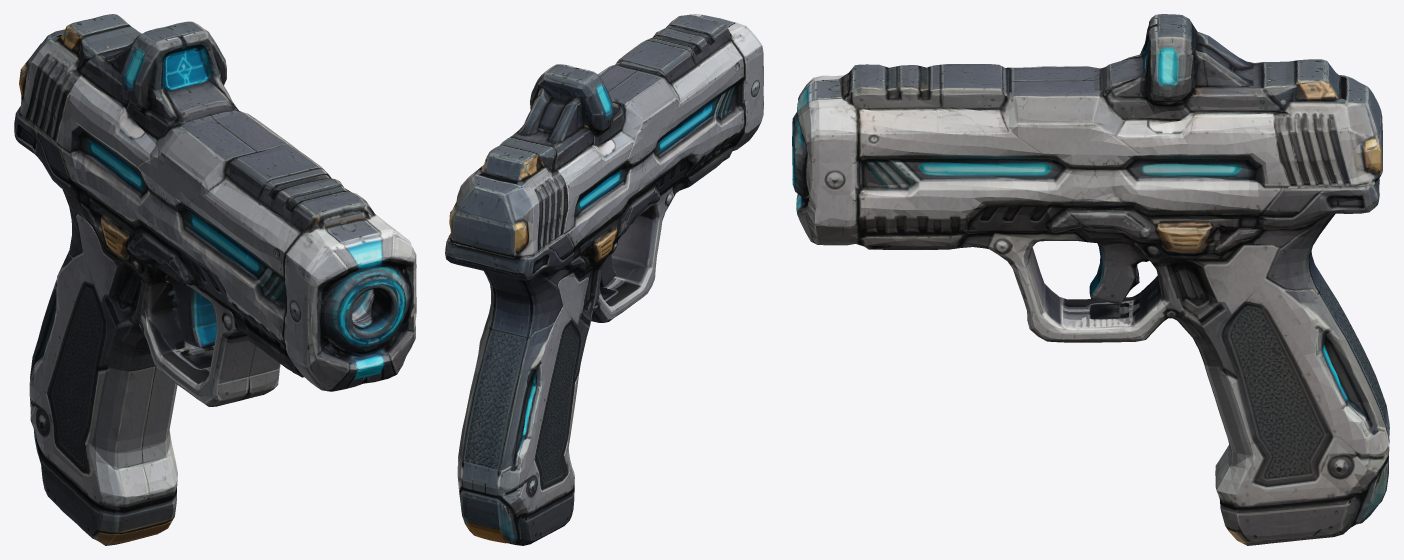
The model's file is Sci-fi_Pistol_Low10k.fbx.
The picture shows the model from 3 angles, left to right: view 1: azimuth 30°, elevation 25°; view 2: azimuth 150°, elevation 25°; view 3: azimuth 270°, elevation 25°; orthographic projection. The views are drawn at different scales.
Visible parts, largest first — view 1: Sci-fi_Pistol_Low; view 2: Sci-fi_Pistol_Low; view 3: Sci-fi_Pistol_Low.
Boxes of the visible parts, left/top/right/bottom form: Sci-fi_Pistol_Low: left=14, top=14, right=416, bottom=545; Sci-fi_Pistol_Low: left=445, top=14, right=763, bottom=545; Sci-fi_Pistol_Low: left=792, top=14, right=1389, bottom=545.
Bounding box in the file's own units: 20.38 × 93.55 × 99.73.
Materials: 1 (1 with a texture image).
